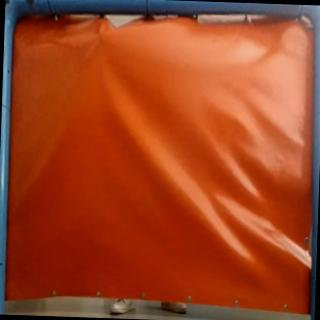Hit-hRxx: (93, 30, 110, 44)
